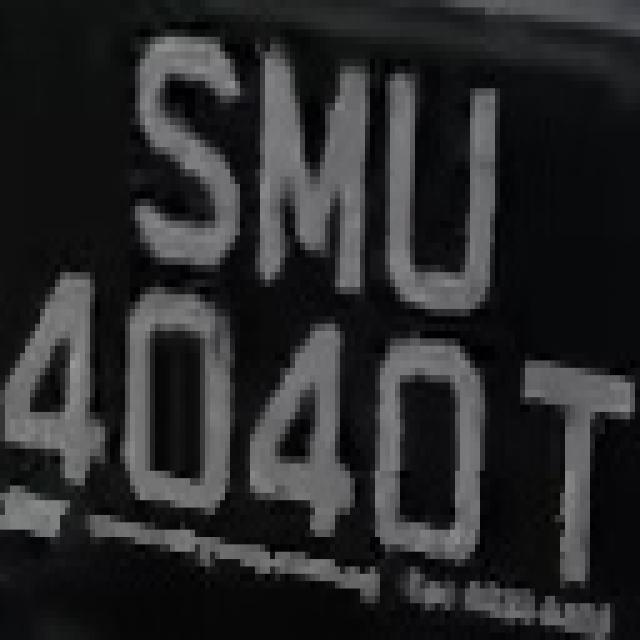0: (110, 280, 240, 544), (370, 331, 490, 603)
4: (245, 280, 360, 559), (20, 243, 100, 544)
M: (250, 51, 380, 309)
S: (125, 22, 245, 280)
T: (510, 316, 635, 581)
U: (380, 51, 505, 346)
